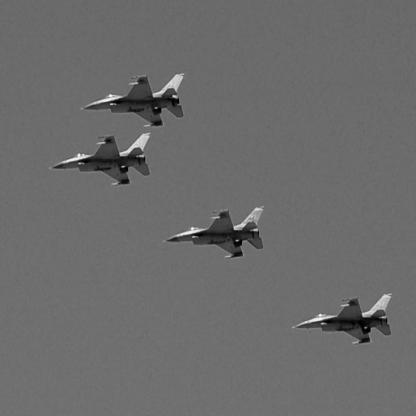F16: (81, 71, 186, 129), (49, 132, 152, 189), (163, 206, 266, 260), (292, 293, 394, 346)
